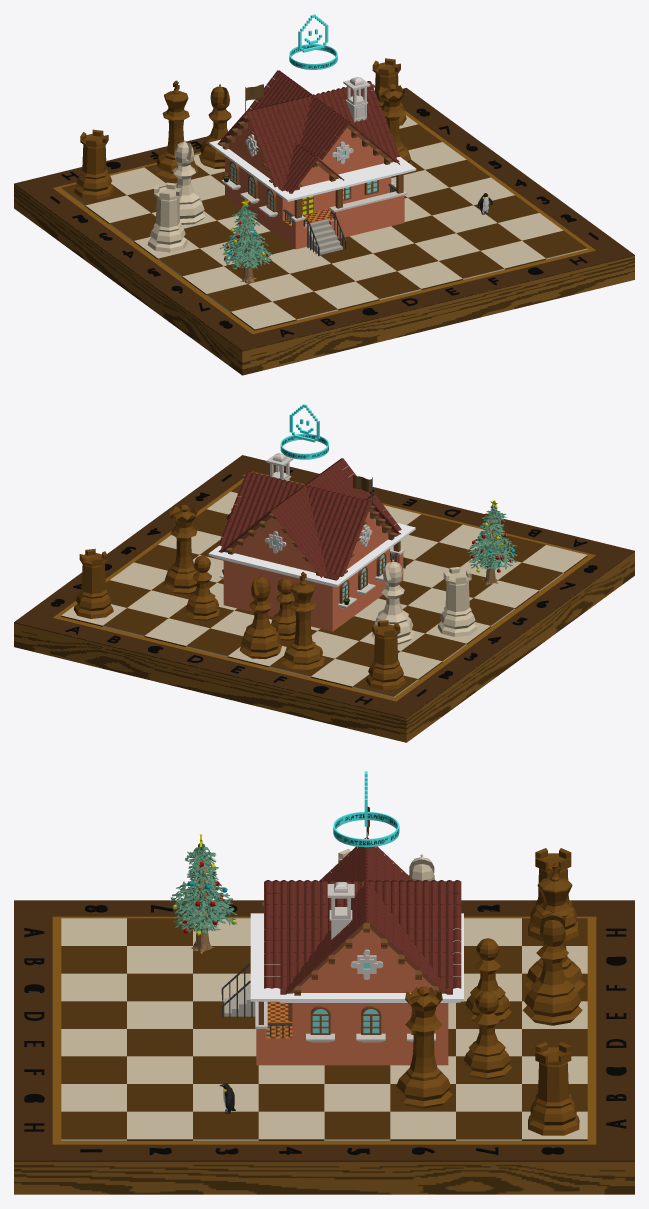
The picture shows the model from 3 angles, top to bottom: view 1: azimuth 30°, elevation 25°; view 2: azimuth 150°, elevation 25°; view 3: azimuth 270°, elevation 25°; orthographic projection. The views are drawn at different scales.
Parts seen in each view (by area): view 1: Cube.002, Cube.1141, OBJRANDOM_CHRISTMAS_TREE, TYPE_PREMIUM; view 2: Cube.002, Cube.1141, OBJRANDOM_CHRISTMAS_TREE, TYPE_PREMIUM; view 3: Cube.002, Cube.1141, OBJRANDOM_CHRISTMAS_TREE, TYPE_PREMIUM.
Part boxes in pixels (<box>): Cube.002: <box>14,58,634,375</box>; Cube.1141: <box>209,70,416,255</box>; OBJRANDOM_CHRISTMAS_TREE: <box>220,199,272,283</box>; TYPE_PREMIUM: <box>289,14,337,69</box>; Cube.002: <box>14,455,634,742</box>; Cube.1141: <box>208,453,415,631</box>; OBJRANDOM_CHRISTMAS_TREE: <box>467,500,517,584</box>; TYPE_PREMIUM: <box>280,404,328,459</box>; Cube.002: <box>14,848,634,1194</box>; Cube.1141: <box>221,807,463,1065</box>; OBJRANDOM_CHRISTMAS_TREE: <box>170,834,237,953</box>; TYPE_PREMIUM: <box>333,771,399,847</box>.
Size of the model in its own units: 3981 by 2128 by 4012.
35 materials, 4 textured.
